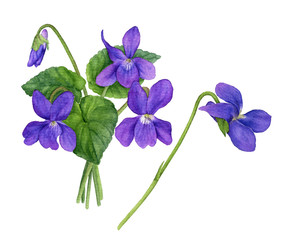violet: (207, 79, 274, 159), (119, 78, 176, 155), (95, 27, 160, 82), (24, 91, 78, 157)
